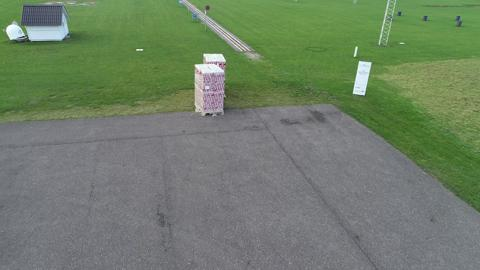RockwoolPallet: (205, 51, 227, 78)
